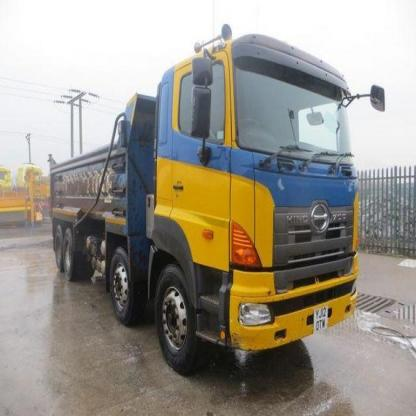dump_truck: (42, 24, 369, 385)
